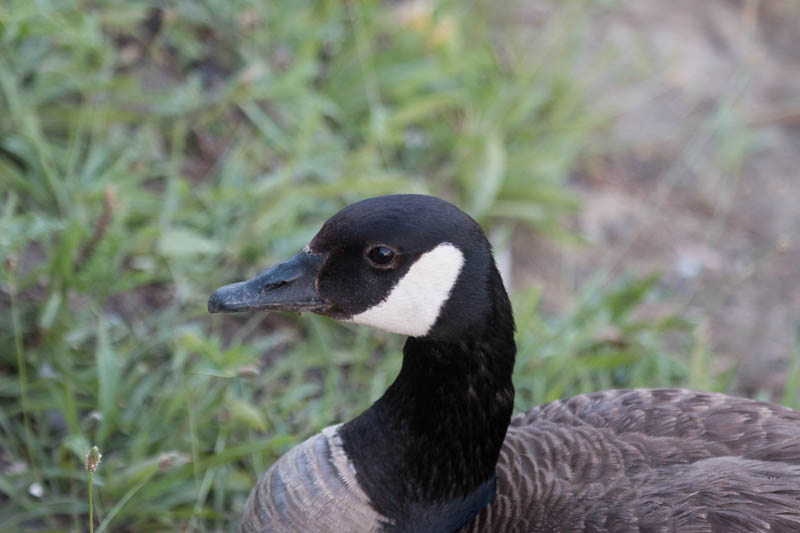goose-head: (207, 193, 515, 339)
